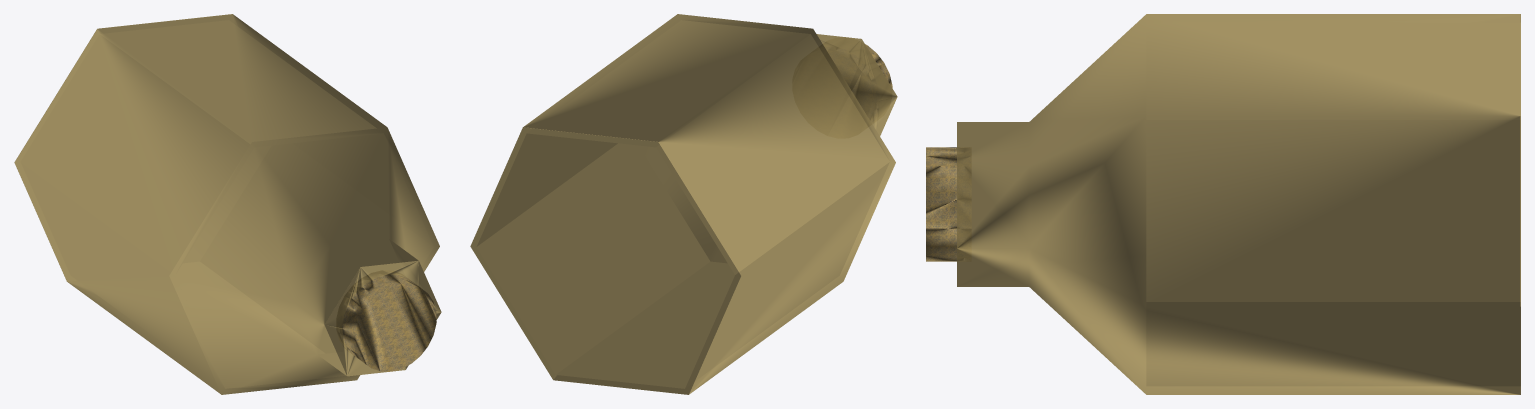
Rendered from model_align.obj.
3 views of the same model, side by side, from view 1: azimuth 30°, elevation 25°; view 2: azimuth 150°, elevation 25°; view 3: azimuth 270°, elevation 25° (orthographic). The views are drawn at different scales.
Bounding box in the file's own units: 0.0708 × 0.0659 × 0.1114.
